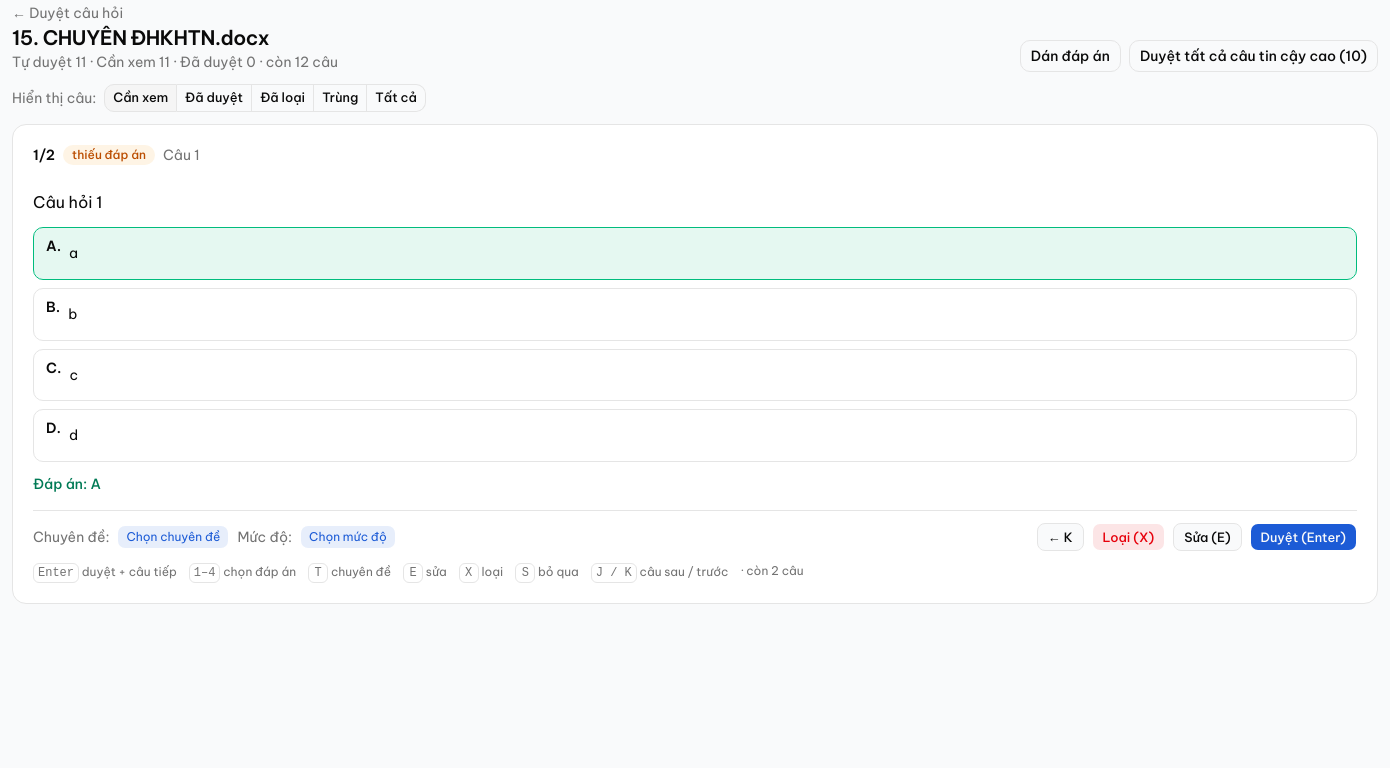
Test case: review document › the state filter reaches the body and lists what was decided
This screenshot has width=1390, height=768.
Click the radio button labelled "Đã duyệt". click: click(215, 98)
box: [177,84,252,112]
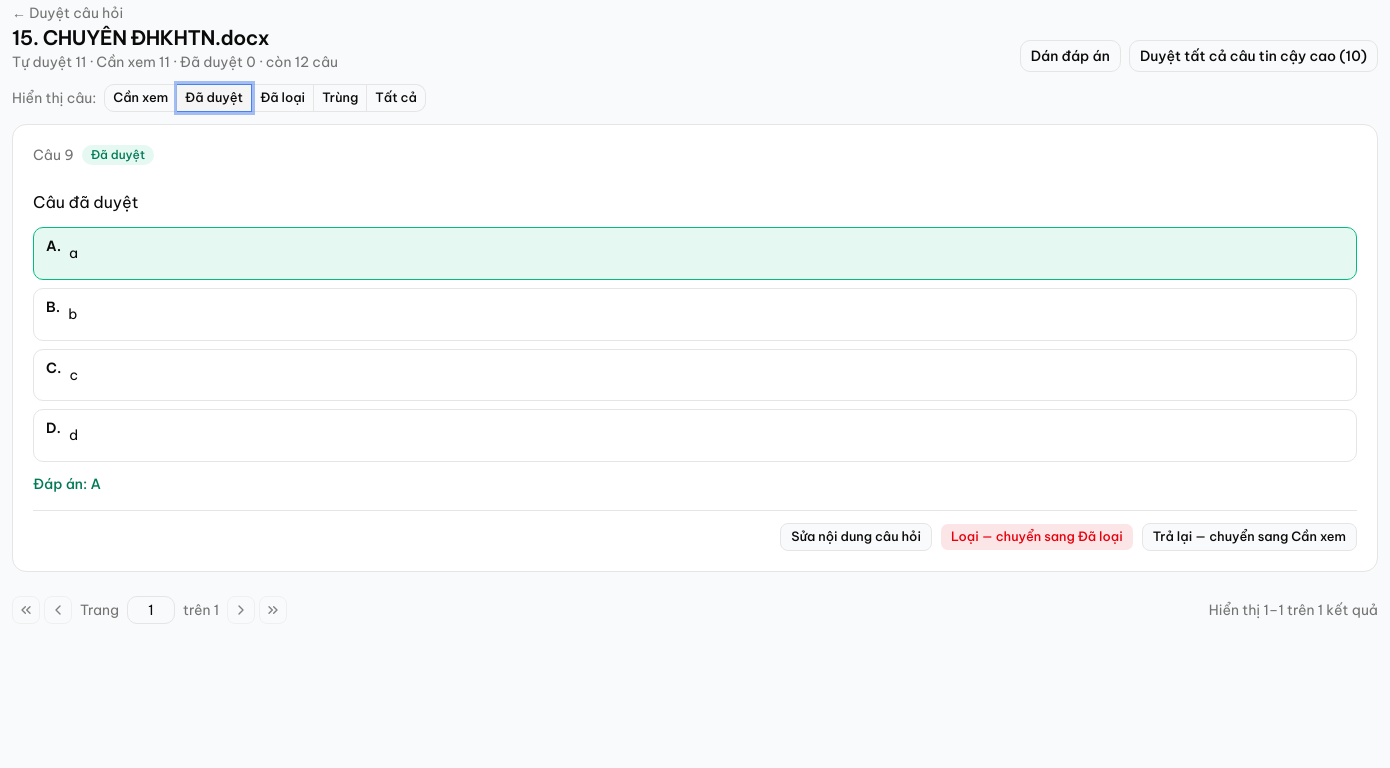
Expected: the element with test id "question-q9" shows "Câu 9", [12,124,1378,572]
Expected: the element with test id "question-q9" shows "Đã duyệt", [91,147,145,162]
Expected: the element with test id "queue-card" is gone
